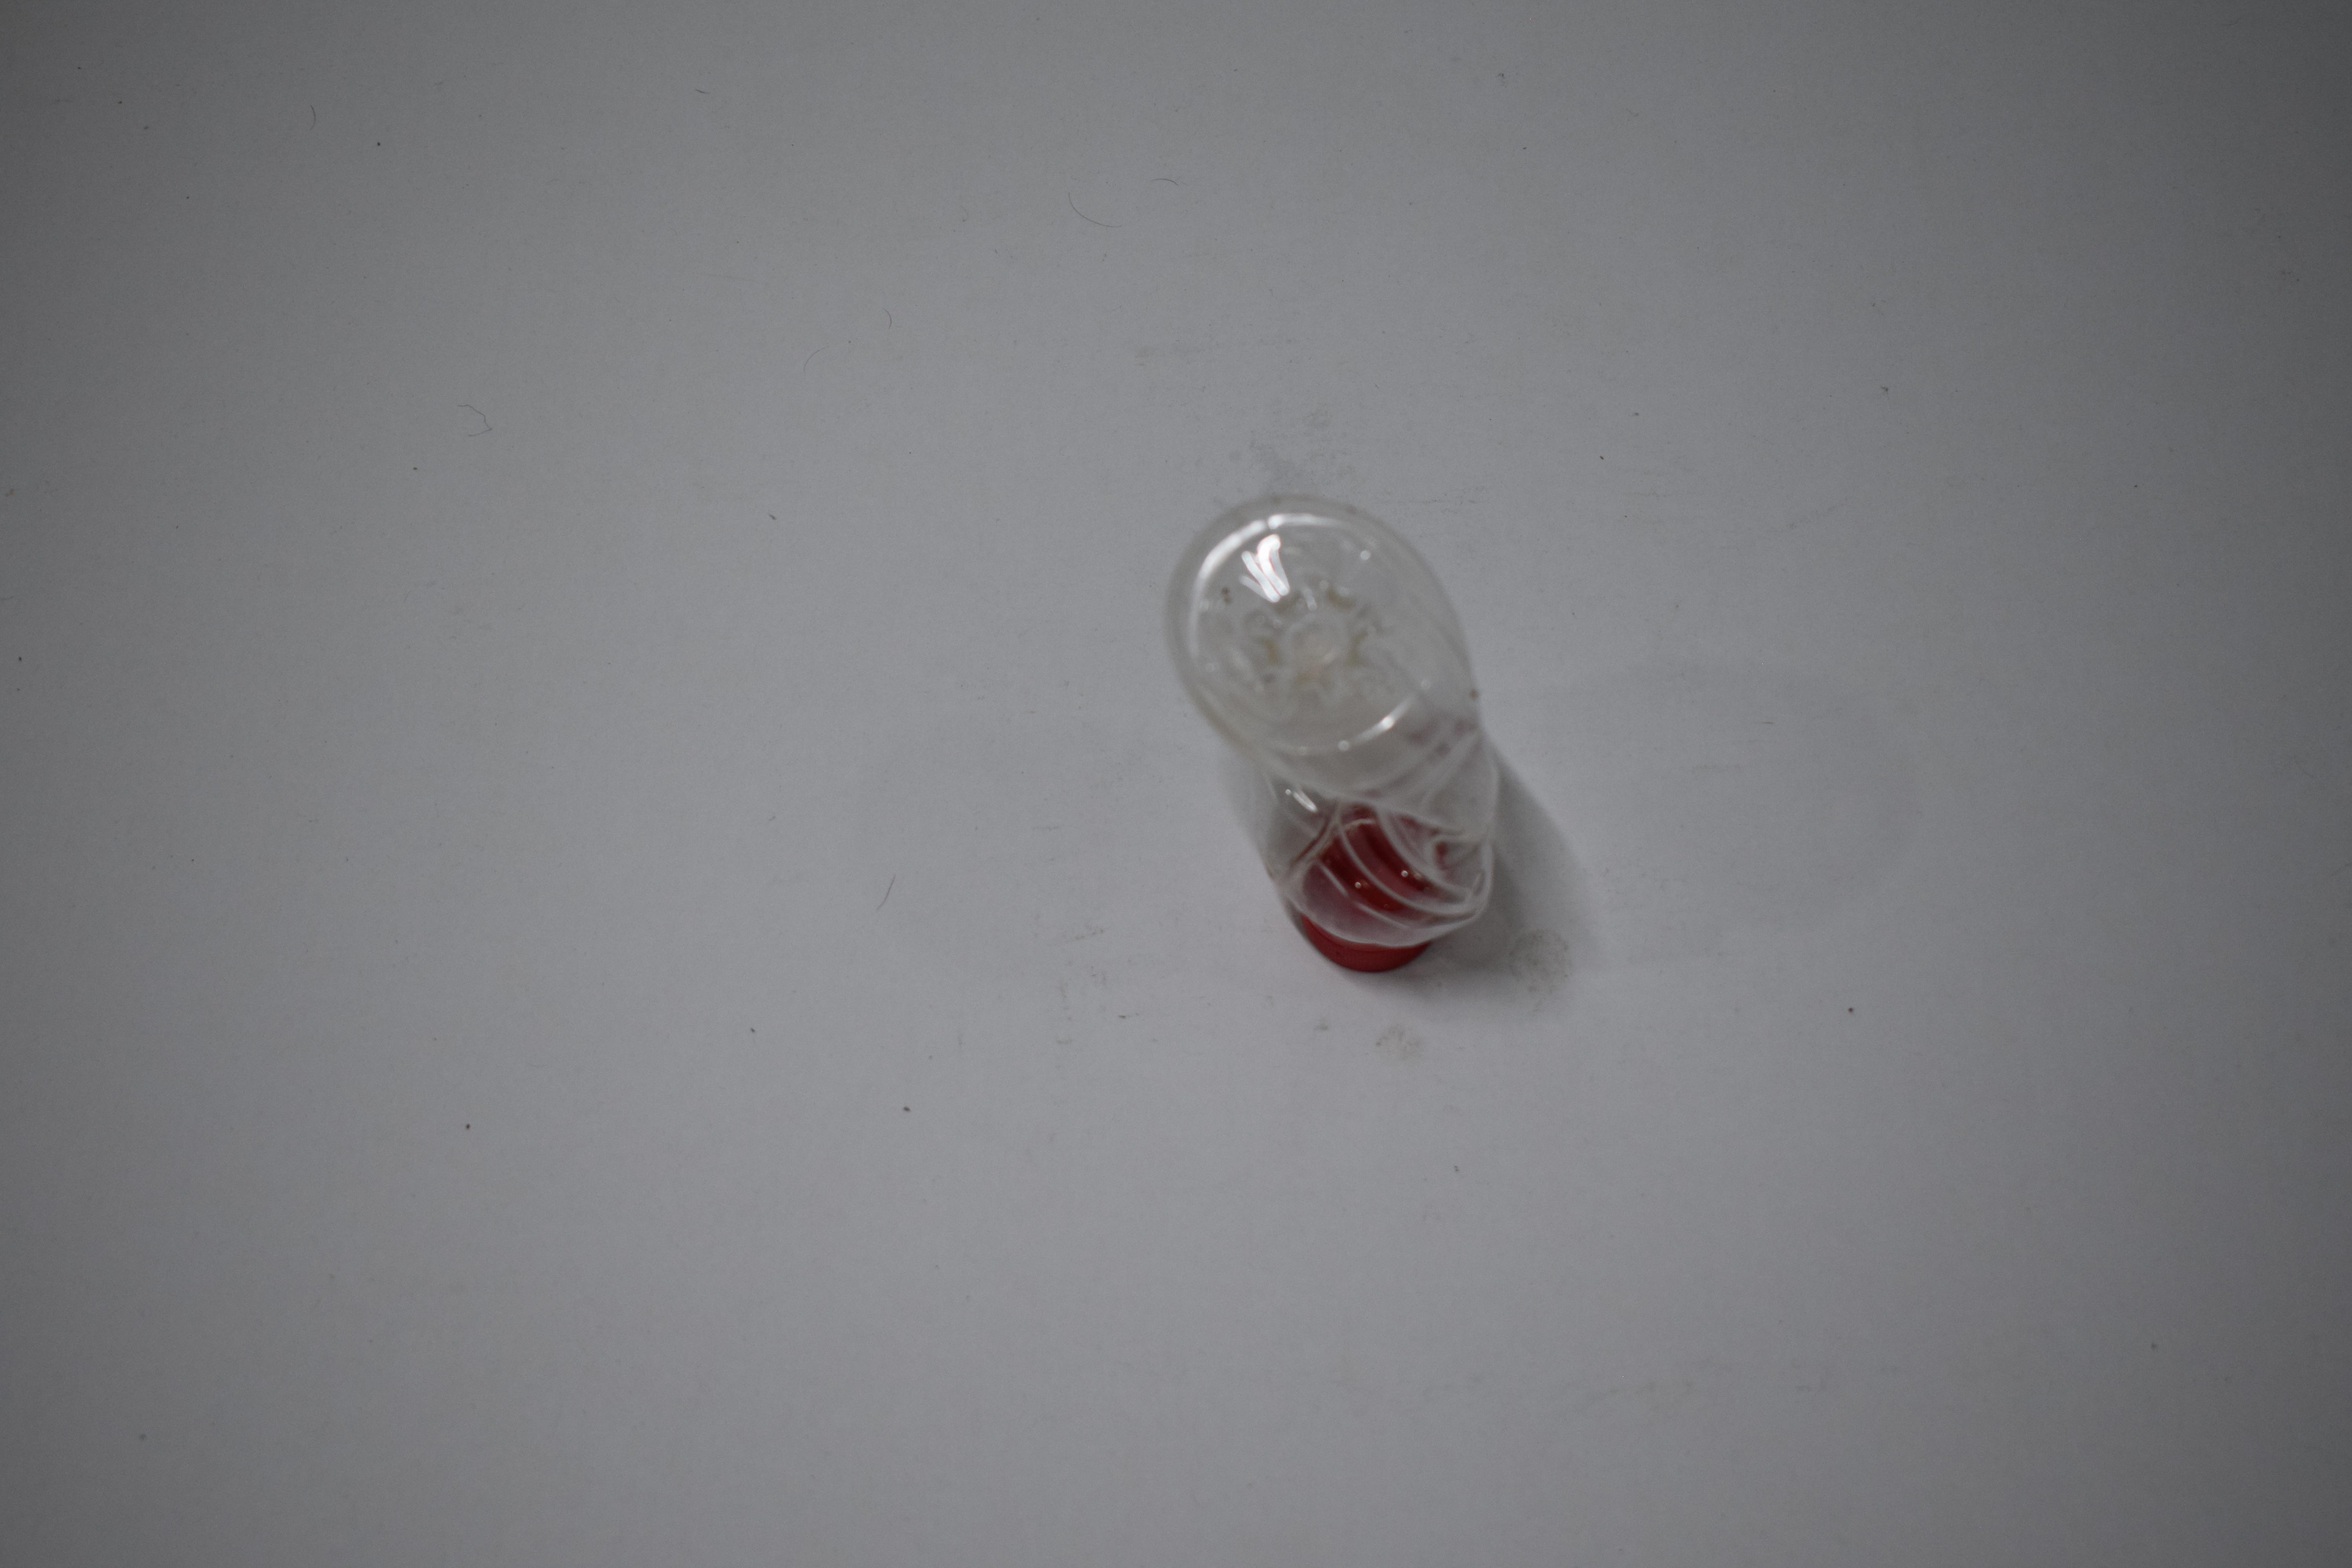bottle: (23, 471, 262, 973)
